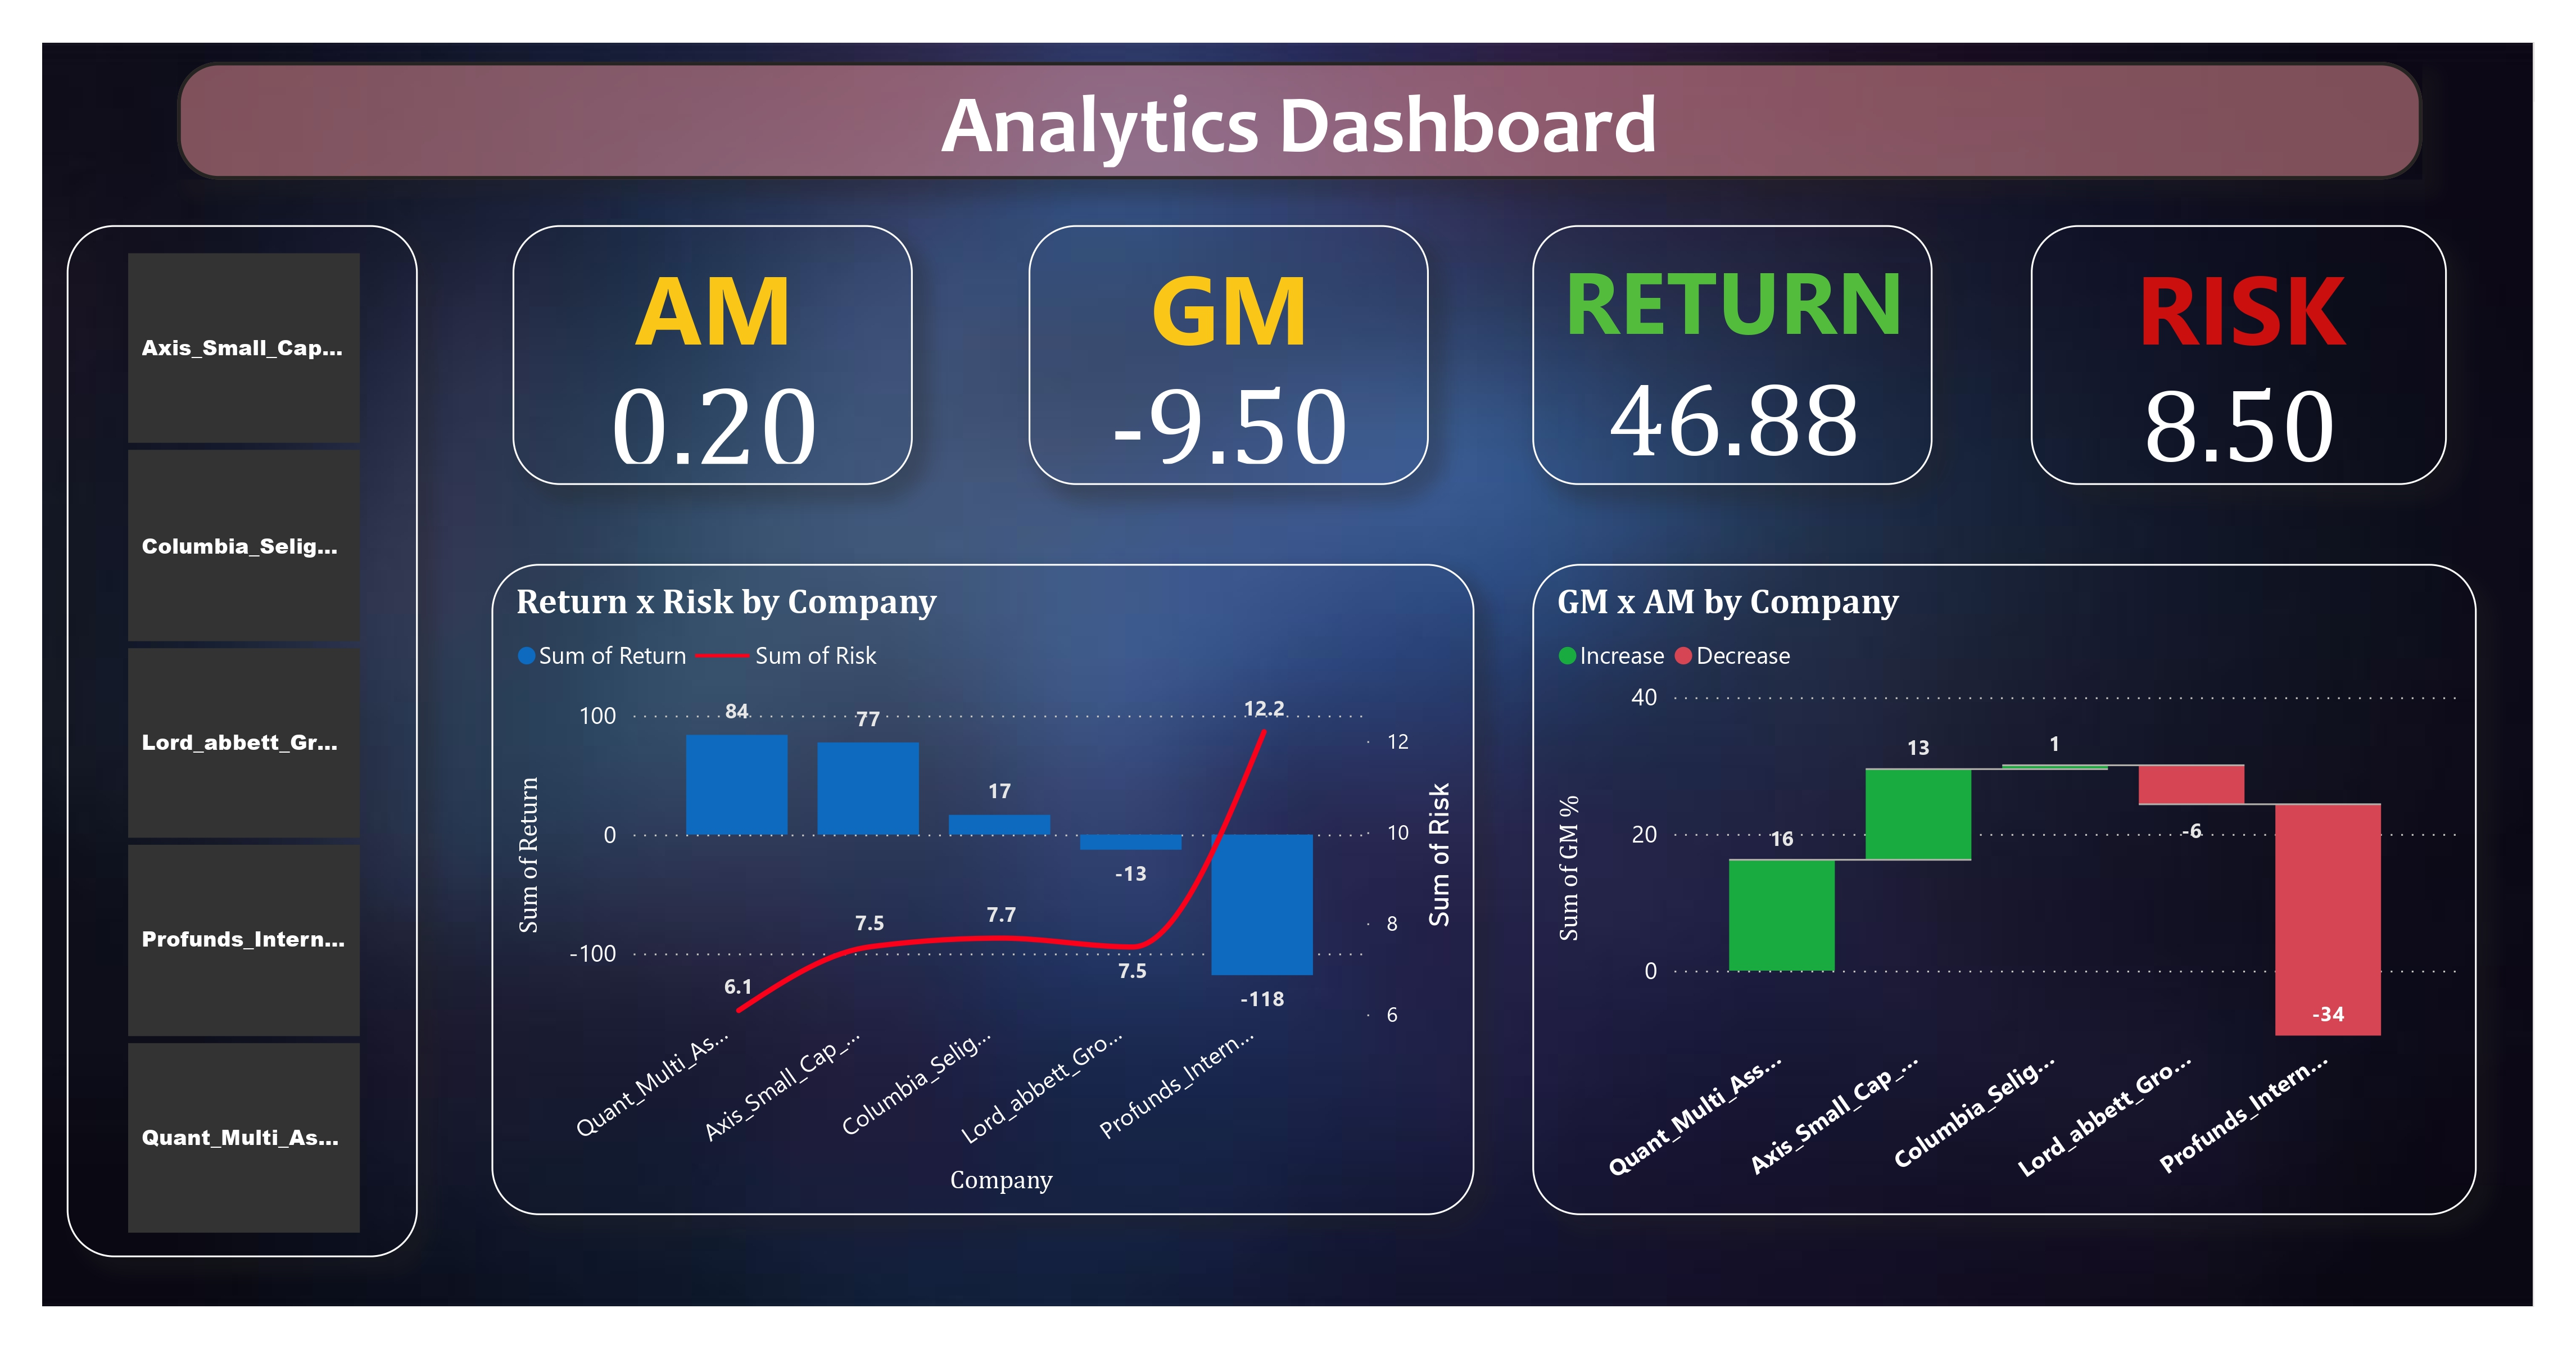

Layout of this report page (visuals, bound fields, positions):
{"tool":"powerbi","page":{"name":"Analytics Dashboard","canvas":[1419,720],"ordinal":1},"visuals":[{"type":"slicer","fields":{"Values":["Sheet1 (2).Company"]},"box":[13.6,104.4,200.9,587.8],"z":0},{"type":"lineClusteredColumnComboChart","title":"Return x Risk by Company","fields":{"Category":["Sheet1 (2).Company"],"Y":["Sum(Sheet1 (2).Return)"],"Y2":["Sum(Sheet1 (2).Risk)"]},"box":[256,297.1,559.8,370.6],"z":1000},{"type":"card","title":"AM","fields":{"Values":["Avg(Sheet1.Return)"]},"box":[267.8,104.4,228.1,147.5],"z":2000},{"type":"card","title":"GM","fields":{"Values":["Sum(Sheet1.GM %)"]},"box":[561.7,104.4,228.1,147.5],"z":3000},{"type":"card","title":"RISK","fields":{"Values":["Sum(Sheet1.Return)"]},"box":[1132.6,104.4,237.2,147.5],"z":4000},{"type":"card","title":"RETURN","fields":{"Values":["Sum(Sheet1.Return)"]},"box":[848.9,104.4,228.1,147.5],"z":5000},{"type":"waterfallChart","title":"GM x AM by Company","fields":{"Category":["Sheet1 (2).Company"],"Y":["Sum(Sheet1.GM %)"]},"box":[849.1,297.1,537.5,370.6],"z":6000},{"type":"shape","box":[77.2,11.3,1279,67],"z":7000}]}

Visuals, with their boxes on the page's 1419x720 design canvas (x1, y1, x2, y2). These are canvas units, not pixel positions in the 2576x1349 screenshot, which may show the page scaled, cropped or inside an application window:
slicer - Sheet1 (2).Company: (x1=14, y1=104, x2=214, y2=692)
"Return x Risk by Company" lineClusteredColumnComboChart: (x1=256, y1=297, x2=816, y2=668)
"AM" card: (x1=268, y1=104, x2=496, y2=252)
"GM" card: (x1=562, y1=104, x2=790, y2=252)
"RISK" card: (x1=1133, y1=104, x2=1370, y2=252)
"RETURN" card: (x1=849, y1=104, x2=1077, y2=252)
"GM x AM by Company" waterfallChart: (x1=849, y1=297, x2=1387, y2=668)
shape: (x1=77, y1=11, x2=1356, y2=78)
